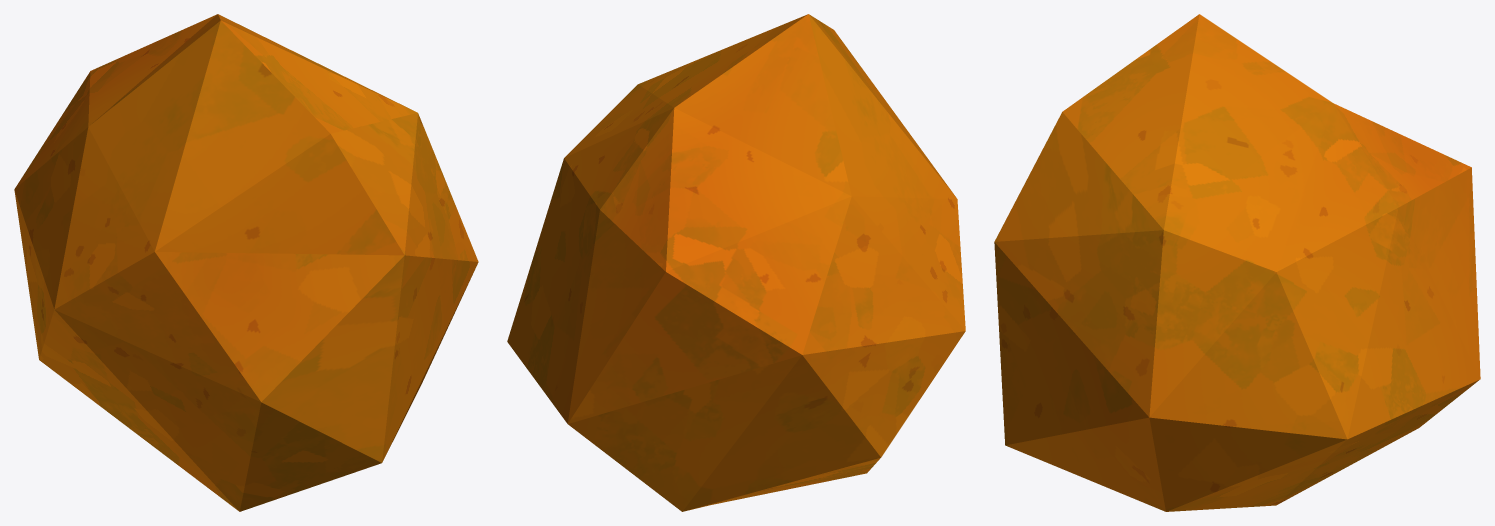
The model's file is gf_int_smallbolders2_1.glb.
3 views of the same model, side by side, from view 1: azimuth 30°, elevation 25°; view 2: azimuth 150°, elevation 25°; view 3: azimuth 270°, elevation 25° (orthographic). The views are drawn at different scales.
Parts seen in each view (by area): view 1: rocks.002; view 2: rocks.002; view 3: rocks.002.
Part boxes in pixels (x1,y1,x2,y2): rocks.002: (14, 14, 478, 511); rocks.002: (507, 14, 965, 511); rocks.002: (994, 14, 1480, 511).
Size of the model in its own units: 1.11 by 1.25 by 1.17.
1 material, 1 textured.
